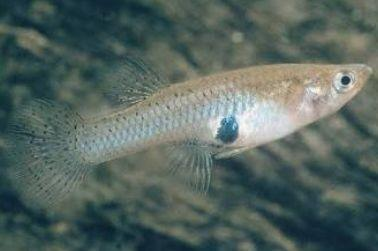Mosquito Fish: (13, 57, 376, 205)
